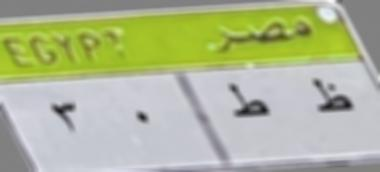0: (128, 104, 156, 132)
3: (48, 93, 85, 138)
Taa: (224, 79, 273, 129)
Thaa: (308, 77, 354, 126)
